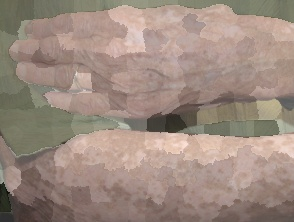vitiligo: (30, 8, 293, 115), (4, 131, 294, 219)
